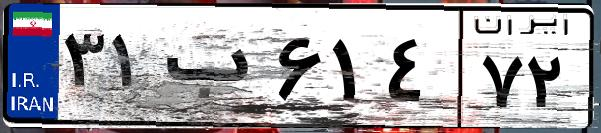1: (330, 28, 385, 110), (110, 28, 158, 98)
2: (525, 38, 570, 115)
3: (57, 26, 110, 100)
4: (385, 28, 445, 110)
6: (270, 28, 330, 110)
7: (475, 38, 525, 113)
ب: (158, 20, 270, 120)
